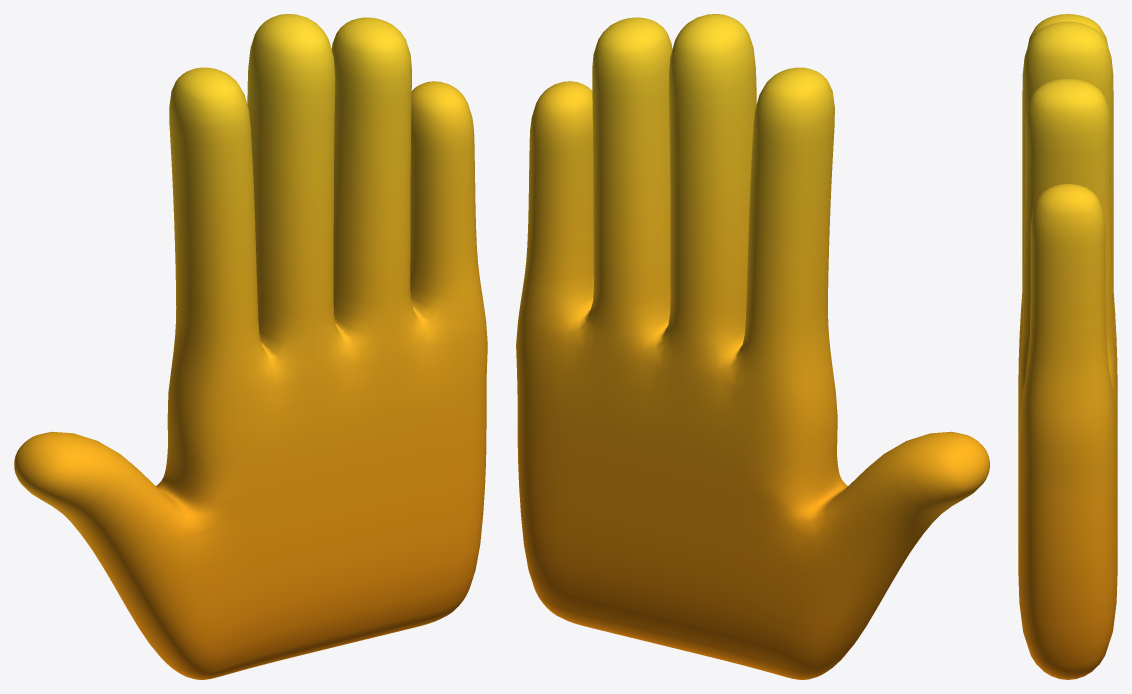
The model's file is raised_back_of_hand.glb.
The picture shows the model from 3 angles, left to right: view 1: azimuth 30°, elevation 25°; view 2: azimuth 150°, elevation 25°; view 3: azimuth 270°, elevation 25°; orthographic projection. The views are drawn at different scales.
Parts seen in each view (by area): view 1: Cube.081; view 2: Cube.081; view 3: Cube.081.
Boxes of the visible parts, box(x1,y1,x2,y2) form: Cube.081: box(14, 14, 487, 679); Cube.081: box(516, 14, 989, 679); Cube.081: box(1018, 14, 1117, 679).
Size of the model in its own units: 1.71 by 2.27 by 0.3442.
Materials: 2 (2 with a texture image).
